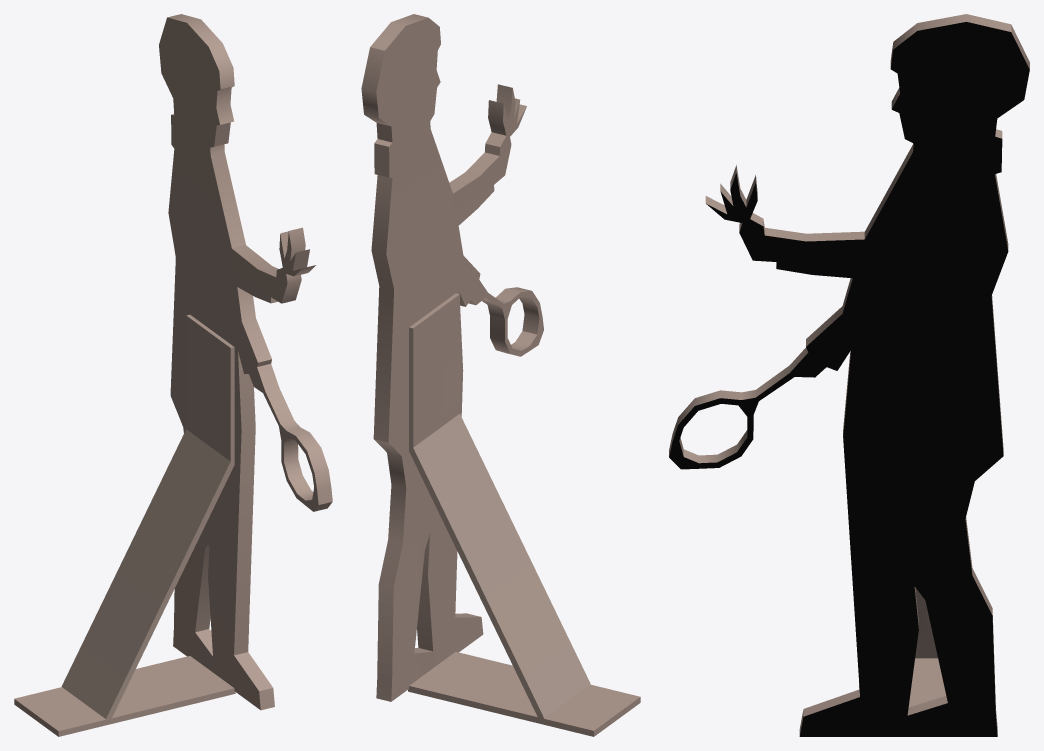
File: Gutt badminton 1.FBX
3 views of the same model, side by side, from view 1: azimuth 30°, elevation 25°; view 2: azimuth 150°, elevation 25°; view 3: azimuth 270°, elevation 25° (orthographic). The views are drawn at different scales.
Visible parts, largest first — view 1: Gutt badminton 1; view 2: Gutt badminton 1; view 3: Gutt badminton 1.
Part boxes in pixels (x1,y1,x2,y2): Gutt badminton 1: (14, 14, 332, 736); Gutt badminton 1: (361, 14, 640, 736); Gutt badminton 1: (669, 14, 1029, 736).
Bounding box in the file's own units: 40.25 × 129 × 58.6.
